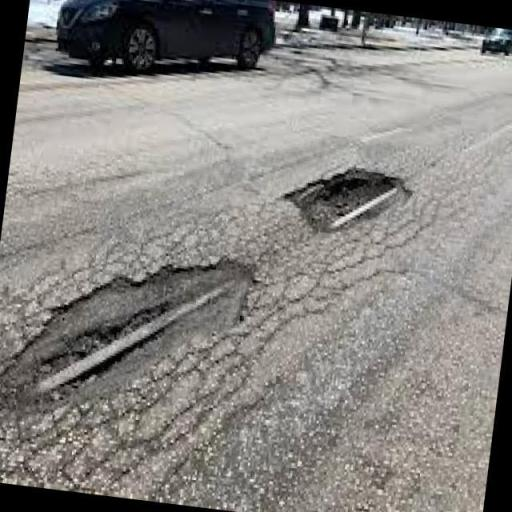pothole: (2, 257, 256, 406), (280, 169, 410, 234)
